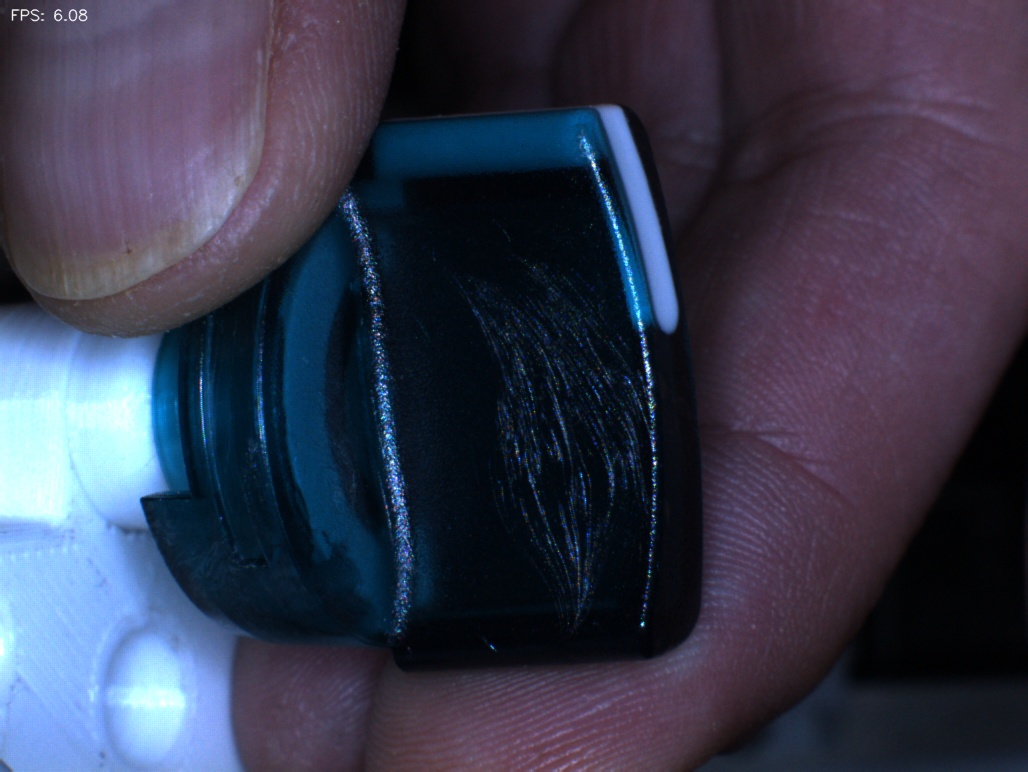Givrage: (452, 243, 632, 607)
